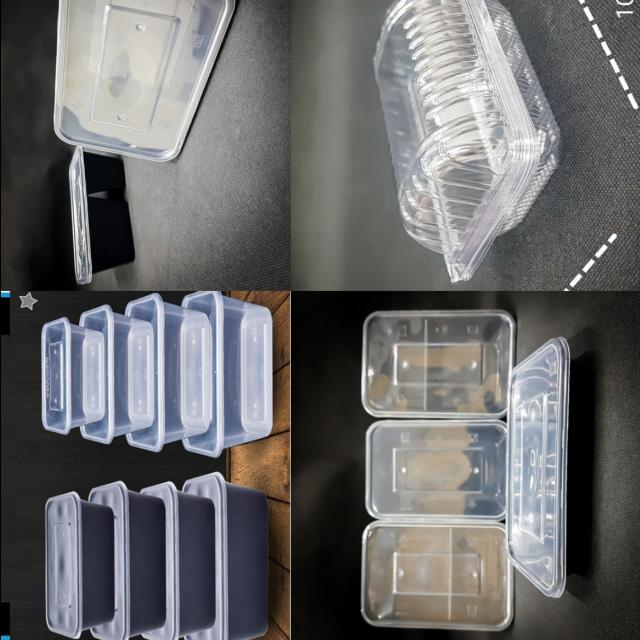plastik: (374, 0, 559, 281), (54, 0, 233, 161), (360, 520, 512, 631), (505, 338, 569, 597), (361, 310, 514, 417), (181, 291, 272, 457), (181, 472, 268, 640), (364, 420, 505, 520), (124, 294, 212, 451), (88, 482, 164, 640), (140, 482, 214, 640), (78, 305, 154, 445), (44, 491, 112, 638), (68, 147, 133, 284), (40, 317, 104, 434)
